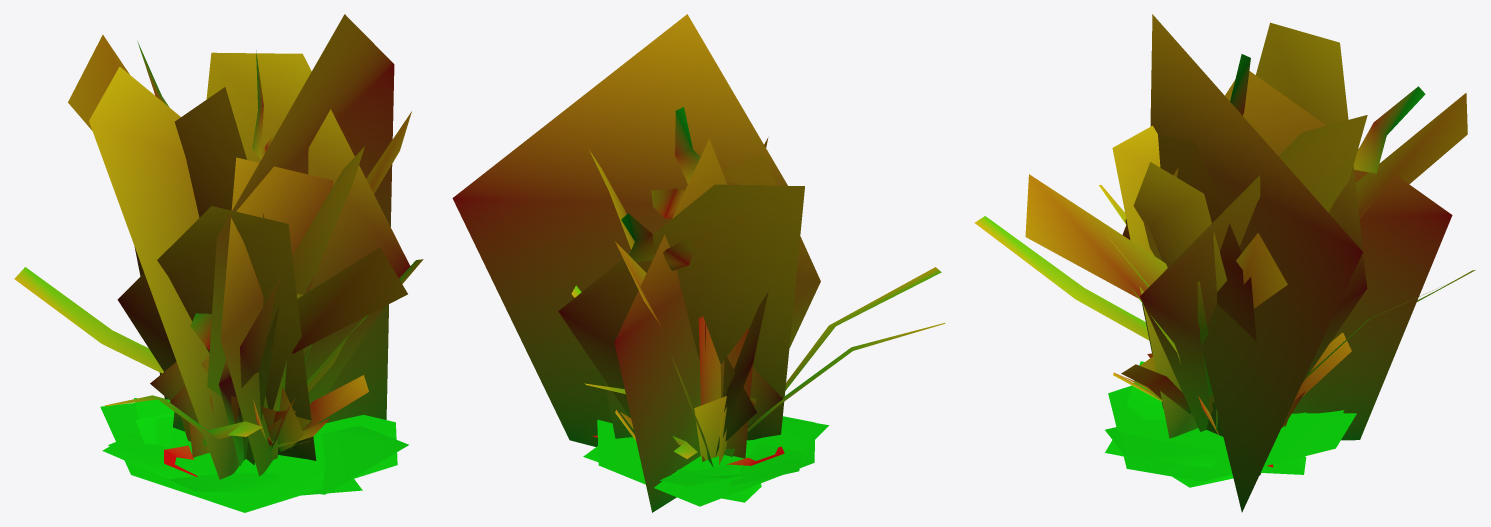
File: Dead Finish_LOD2_Var3_ucokaamia.fbx
3 renders of one model, left to right at view 1: azimuth 30°, elevation 25°; view 2: azimuth 150°, elevation 25°; view 3: azimuth 270°, elevation 25°, orthographic. The views are drawn at different scales.
Visible parts, largest first — view 1: _b1vm_Var3_LOD2; view 2: _b1vm_Var3_LOD2; view 3: _b1vm_Var3_LOD2.
Part boxes in pixels (x1=…): _b1vm_Var3_LOD2: x1=14, y1=14, x2=423, y2=512; _b1vm_Var3_LOD2: x1=452, y1=14, x2=945, y2=512; _b1vm_Var3_LOD2: x1=974, y1=14, x2=1475, y2=512.
Bounding box in the file's own units: 38.81 × 43.63 × 40.99.
